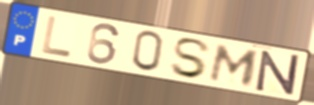0: (130, 30, 166, 74)
6: (86, 23, 122, 67)
L: (40, 14, 74, 60)
M: (206, 43, 262, 88)
N: (254, 49, 301, 97)
S: (168, 37, 213, 80)
